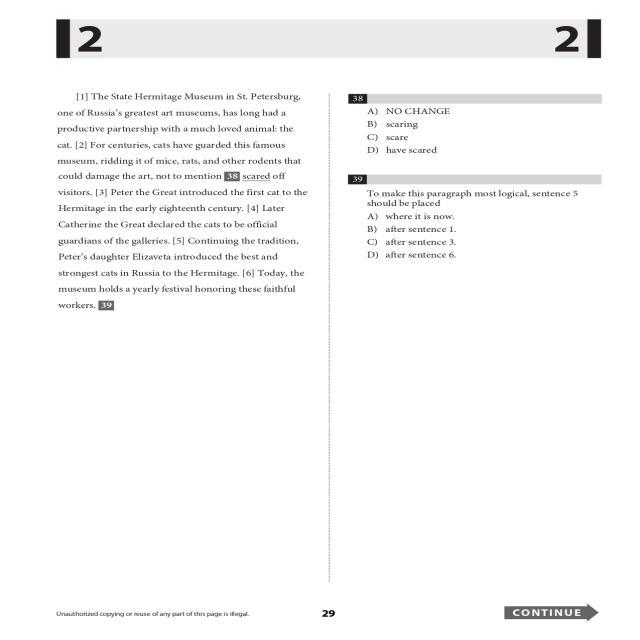Answer_Block: (338, 210, 616, 268), (337, 106, 615, 158)
Instruction: (57, 87, 320, 585)
Question_Answer_Block: (338, 172, 616, 267), (337, 84, 615, 158)
Question_Block: (338, 172, 616, 210), (337, 84, 615, 105)
Question_Paper_Area: (337, 84, 615, 584), (57, 87, 320, 585)
